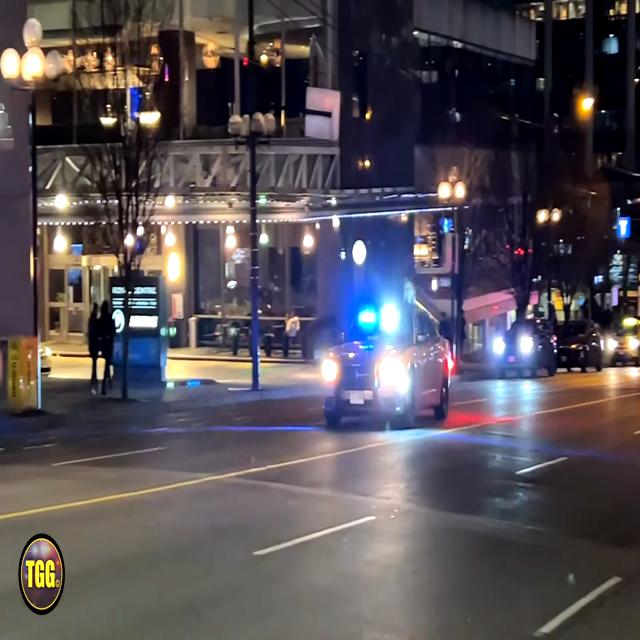emergency-vehicles: (294, 298, 459, 455)
